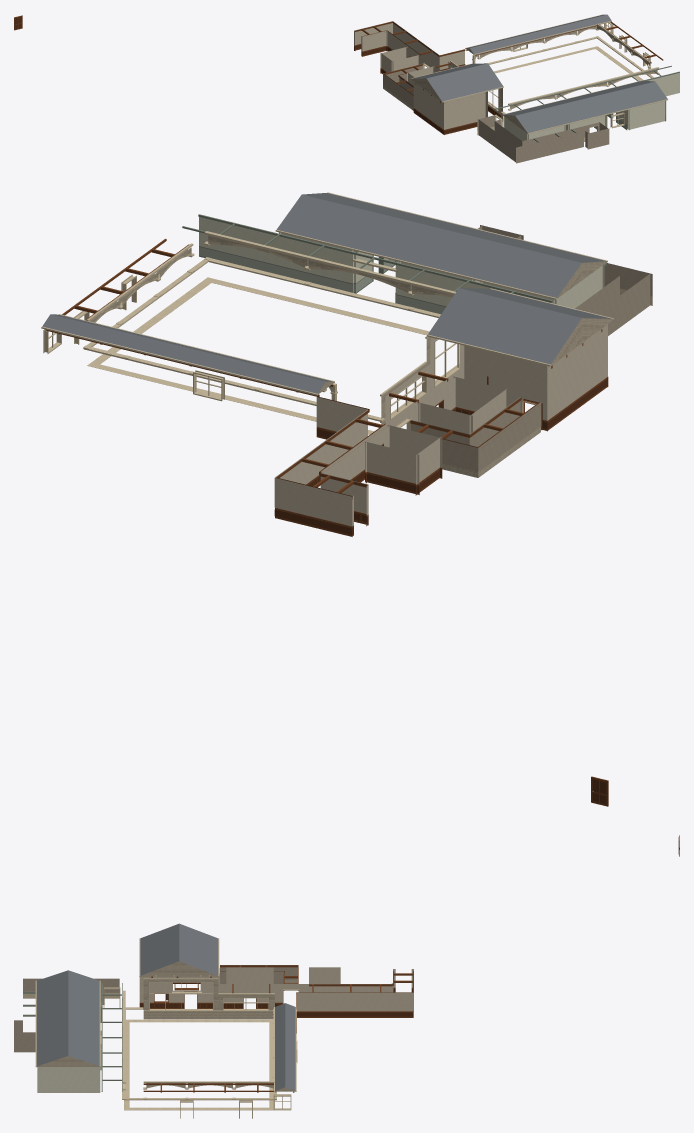
The model's file is library_court.glb.
The picture shows the model from 3 angles, top to bottom: view 1: azimuth 30°, elevation 25°; view 2: azimuth 150°, elevation 25°; view 3: azimuth 270°, elevation 25°; orthographic projection. The views are drawn at different scales.
Parts seen in each view (by area): view 1: LibraryGallery Soft limewash, NorthTeaching Welsh slate, NorthTeaching Old passage lime render, NorthTeaching North Schools chalk plaster, BookPassage Dressed limestone, LibraryGallery Welsh slate, NorthTeaching Dressed limestone, BookPassage Welsh slate, LibraryGallery Scholars oak moulding, LibraryGallery Old passage lime render, NorthTeaching Painted olive joinery, LibraryGallery Scholars recessed oak (+5 smaller); view 2: LibraryGallery Soft limewash, NorthTeaching Welsh slate, BookPassage Dressed limestone, LibraryGallery Welsh slate, NorthTeaching North Schools chalk plaster, BookPassage Welsh slate, NorthTeaching Dressed limestone, LibraryGallery Scholars oak moulding, LibraryGallery Old passage lime render, NorthTeaching Old passage lime render, NorthTeaching Distempered sage dado, LibraryGallery Scholars recessed oak (+5 smaller); view 3: LibraryGallery Soft limewash, NorthTeaching Welsh slate, BookPassage Dressed limestone, LibraryGallery Welsh slate, LibraryGallery Reused court limestone, LibraryGallery Scholars oak moulding, BookPassage Welsh slate, NorthTeaching North Schools chalk plaster, LibraryGallery Dressed limestone, NorthTeaching Dressed limestone, NorthTeaching Old passage lime render, LibraryGallery Scholars recessed oak (+3 smaller).
Part boxes in pixels (x1,y1,x2,y2): LibraryGallery Soft limewash: (354, 21, 500, 129); NorthTeaching Welsh slate: (503, 80, 667, 132); NorthTeaching Old passage lime render: (477, 115, 609, 163); NorthTeaching North Schools chalk plaster: (503, 73, 679, 140); BookPassage Dressed limestone: (465, 14, 650, 121); LibraryGallery Welsh slate: (412, 63, 503, 101); NorthTeaching Dressed limestone: (477, 67, 668, 141); BookPassage Welsh slate: (466, 14, 611, 53); LibraryGallery Scholars oak moulding: (354, 21, 500, 134); LibraryGallery Old passage lime render: (383, 64, 422, 107); NorthTeaching Painted olive joinery: (494, 65, 679, 142); LibraryGallery Scholars recessed oak: (354, 45, 500, 133); LibraryGallery Soft limewash: (274, 324, 607, 526); NorthTeaching Welsh slate: (277, 193, 606, 297); BookPassage Dressed limestone: (41, 243, 429, 434); LibraryGallery Welsh slate: (428, 288, 612, 364); NorthTeaching North Schools chalk plaster: (199, 217, 604, 308); BookPassage Welsh slate: (42, 314, 332, 393); NorthTeaching Dressed limestone: (190, 192, 652, 317); LibraryGallery Scholars oak moulding: (275, 329, 608, 536); LibraryGallery Old passage lime render: (411, 397, 541, 472); NorthTeaching Old passage lime render: (478, 225, 652, 335); NorthTeaching Distempered sage dado: (199, 247, 445, 314); LibraryGallery Scholars recessed oak: (274, 378, 607, 534); LibraryGallery Soft limewash: (139, 967, 413, 1011); NorthTeaching Welsh slate: (36, 970, 99, 1066); BookPassage Dressed limestone: (124, 1007, 297, 1118); LibraryGallery Welsh slate: (140, 923, 218, 975); LibraryGallery Reused court limestone: (140, 961, 297, 1019); LibraryGallery Scholars oak moulding: (139, 965, 413, 1033); BookPassage Welsh slate: (275, 1003, 295, 1090); NorthTeaching North Schools chalk plaster: (37, 1030, 101, 1092); LibraryGallery Dressed limestone: (139, 938, 299, 1011); NorthTeaching Dressed limestone: (23, 980, 143, 1100); NorthTeaching Old passage lime render: (14, 978, 119, 1052); LibraryGallery Scholars recessed oak: (140, 982, 413, 1016).
Size of the model in its own units: 80.29 by 8.23 by 84.54.
14 materials, 8 textured.
